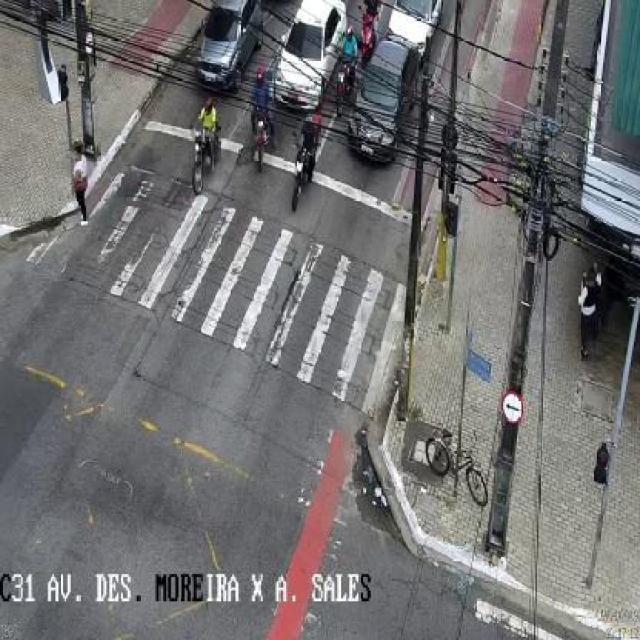bicycle: (425, 424, 487, 506)
car: (348, 38, 418, 164), (272, 1, 346, 105), (196, 0, 262, 89)
motorbike: (188, 96, 221, 196), (250, 63, 278, 172), (290, 114, 321, 209), (576, 261, 598, 357), (334, 26, 356, 120), (70, 142, 88, 226), (358, 2, 376, 58)
